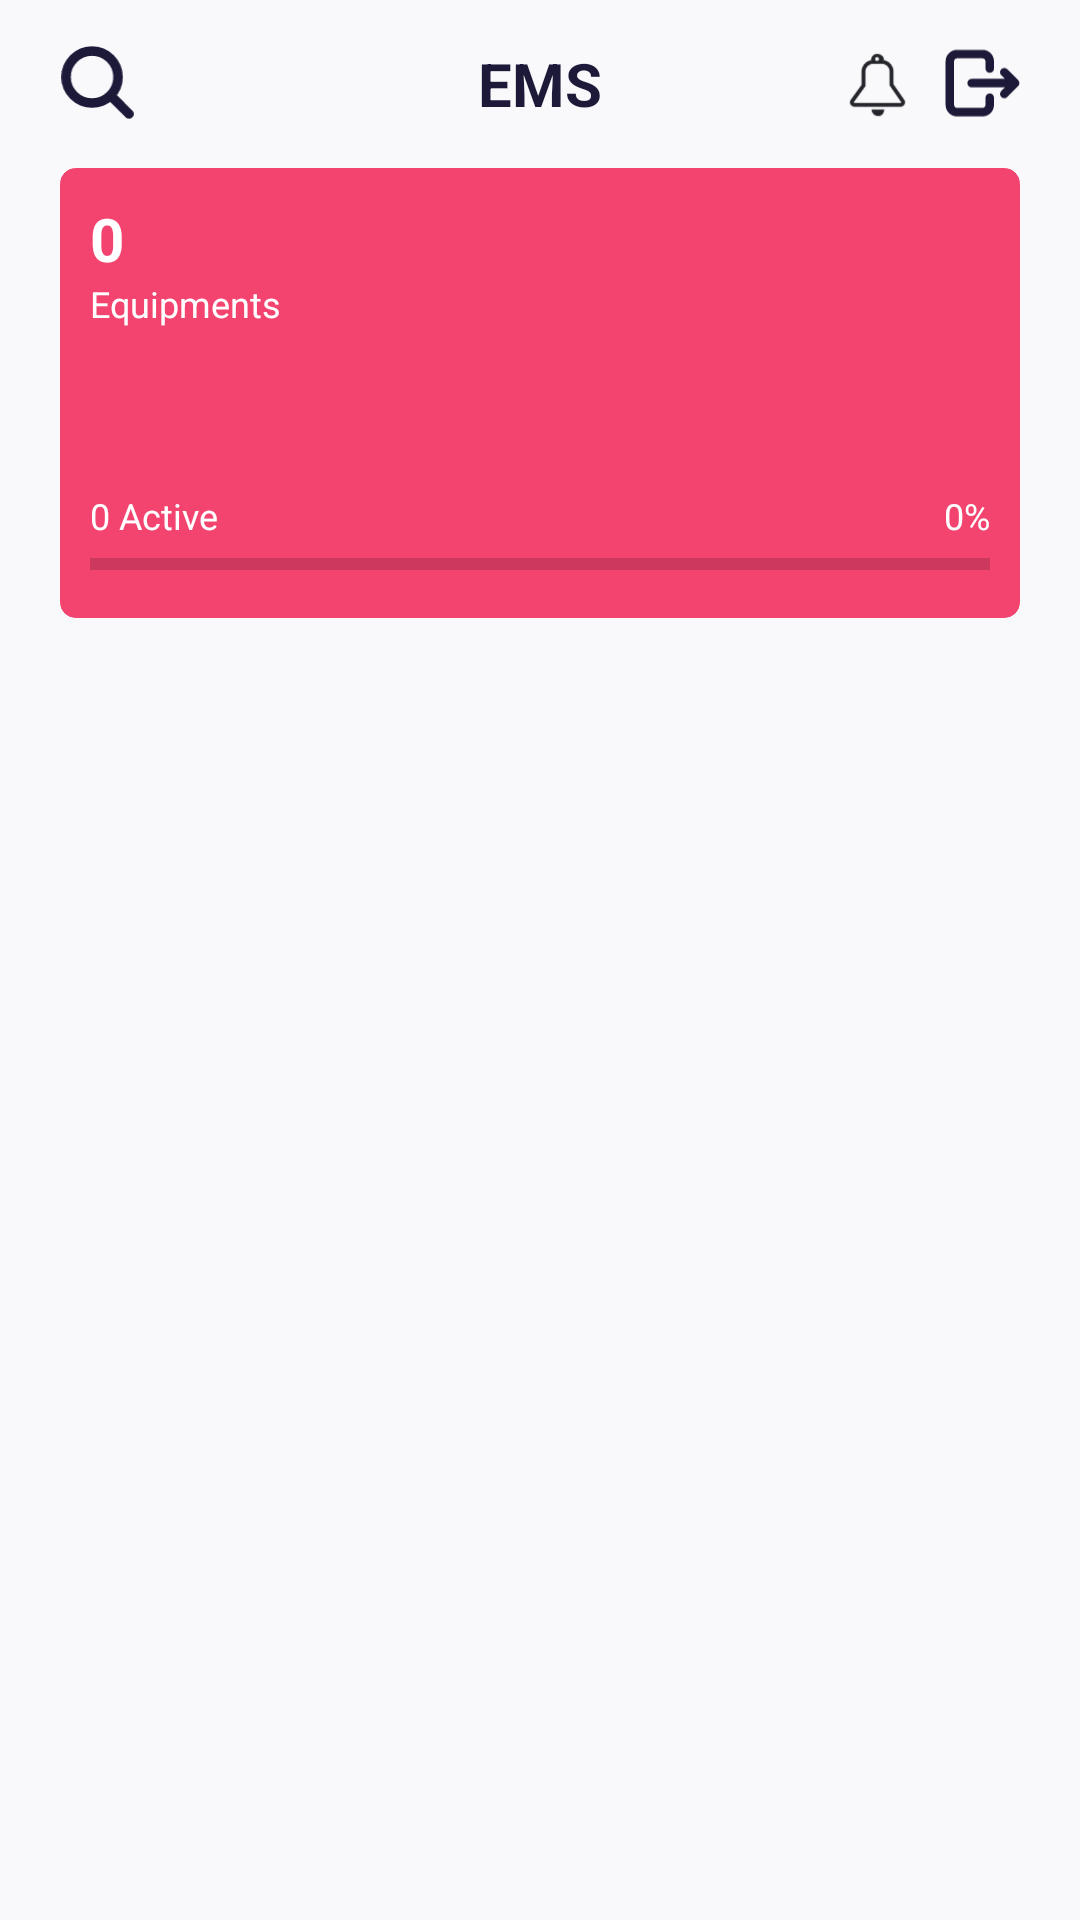

Icons on this 1080 x 1920 Android screen, each with its box as region(x1, y1, x2, y2):
notification: region(849, 53, 906, 117)
search: region(61, 46, 134, 119)
